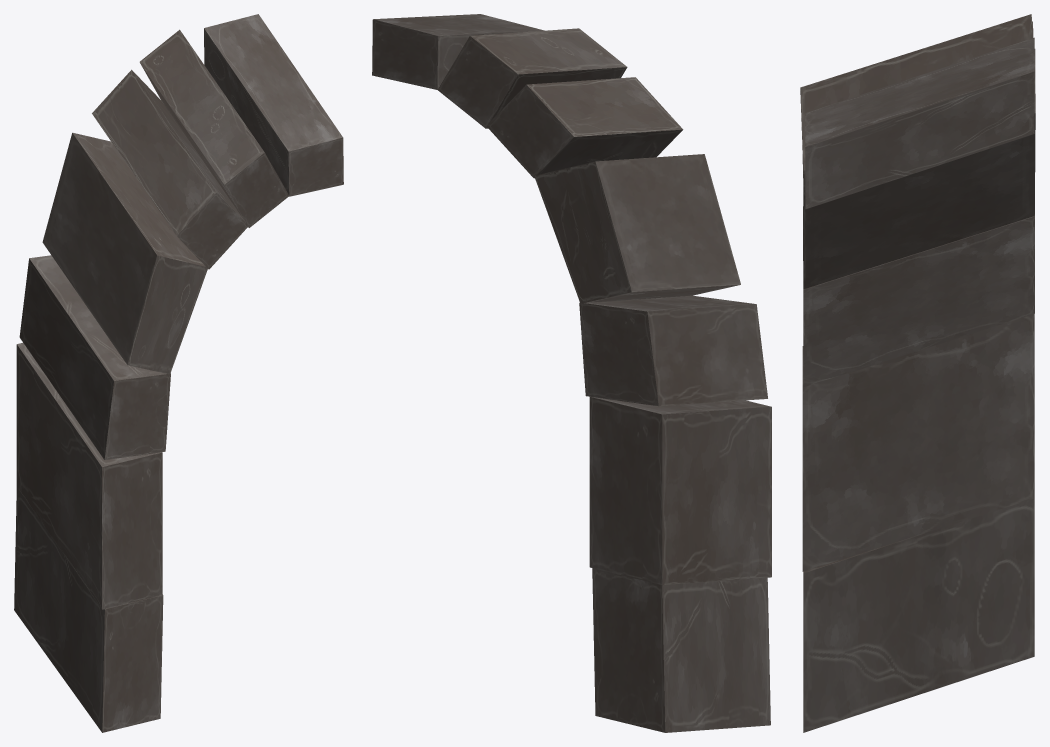
3 views of the same model, side by side, from view 1: azimuth 30°, elevation 25°; view 2: azimuth 150°, elevation 25°; view 3: azimuth 270°, elevation 25° (orthographic). The views are drawn at different scales.
Visible parts, largest first — view 1: polySurface448, polySurface425, polySurface426, polySurface427, polySurface451, polySurface449, polySurface450; view 2: polySurface425, polySurface426, polySurface448, polySurface427, polySurface449, polySurface450, polySurface451; view 3: polySurface425, polySurface426, polySurface427, polySurface451, polySurface448, polySurface450.
Boxes of the visible parts, x1,y1,x2,y2 form: polySurface448: (42, 132, 207, 374); polySurface425: (16, 342, 162, 609); polySurface426: (14, 487, 163, 732); polySurface427: (19, 255, 170, 459); polySurface451: (204, 14, 343, 196); polySurface449: (92, 69, 247, 269); polySurface450: (139, 29, 289, 227); polySurface425: (589, 396, 771, 584); polySurface426: (592, 568, 770, 732); polySurface448: (534, 154, 740, 302); polySurface427: (579, 295, 767, 406); polySurface449: (486, 77, 683, 178); polySurface450: (438, 28, 627, 128); polySurface451: (372, 14, 544, 89); polySurface425: (802, 314, 1034, 571); polySurface426: (803, 498, 1034, 732); polySurface427: (803, 215, 1034, 387); polySurface451: (805, 37, 1034, 209); polySurface448: (803, 49, 1035, 289); polySurface450: (800, 14, 1032, 174).
Size of the model in its own units: 1.61 by 3.75 by 1.02.
